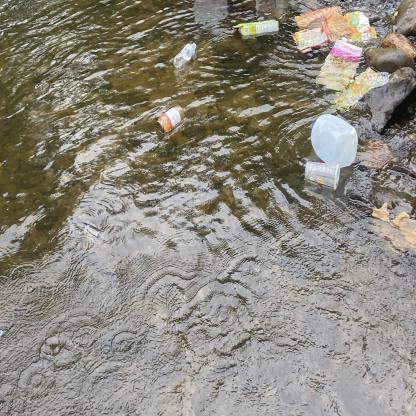trash: (308, 110, 363, 172), (312, 35, 368, 92), (366, 200, 416, 257), (292, 2, 353, 44), (335, 64, 382, 110), (290, 20, 332, 58), (303, 158, 344, 196), (226, 15, 282, 42), (342, 5, 380, 44), (153, 104, 189, 144), (170, 39, 199, 75), (363, 70, 396, 89)
